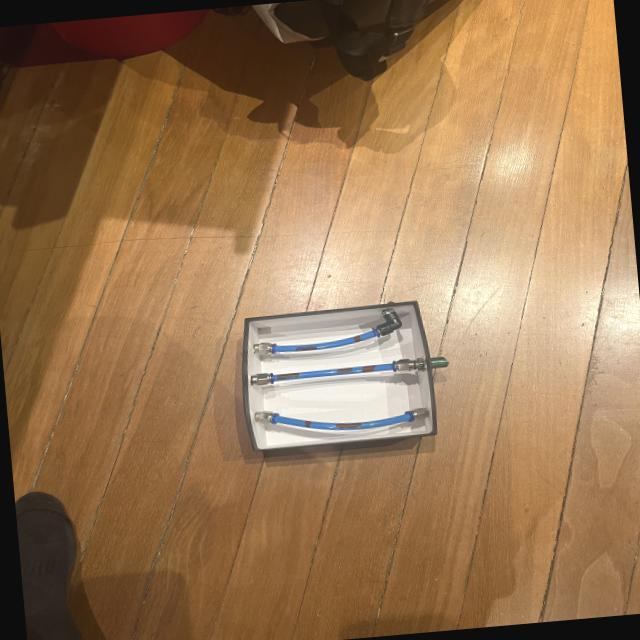hose_damage: (334, 420, 362, 430), (294, 344, 318, 352), (276, 372, 300, 380), (361, 364, 376, 374), (335, 367, 353, 373), (352, 334, 362, 344), (304, 418, 312, 428)
